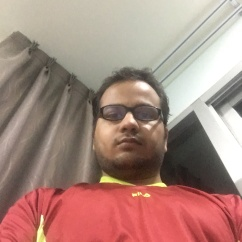glasses: (97, 105, 162, 122)
